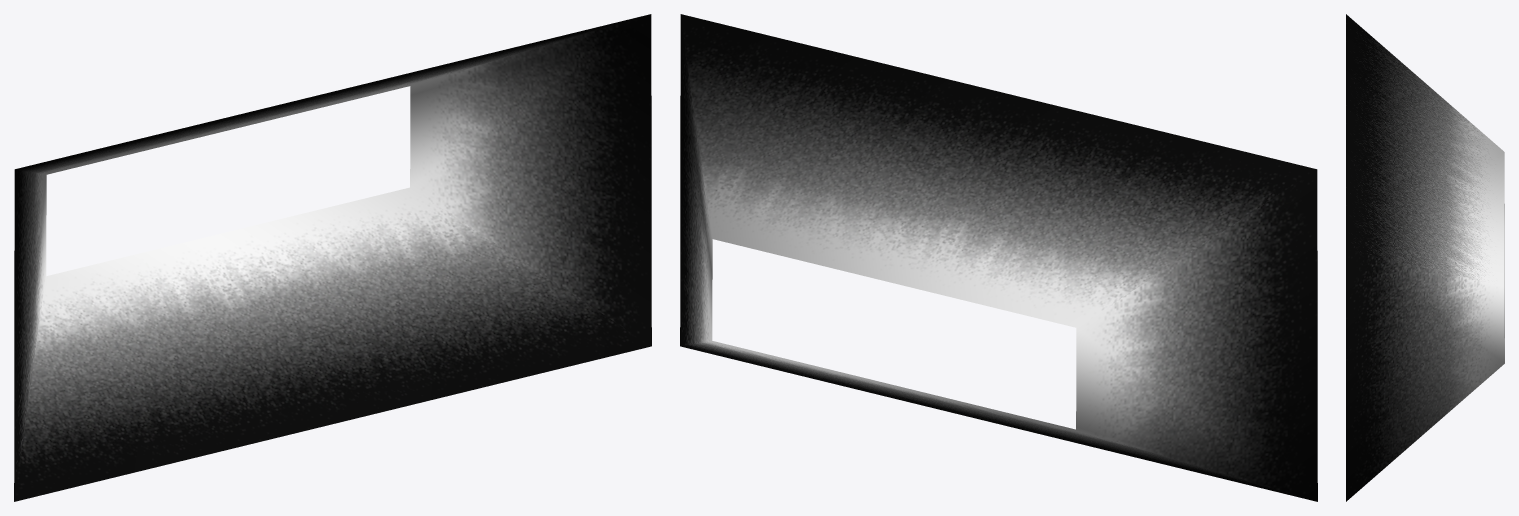
File: FloodLight_A_Shard.fbx
3 views of the same model, side by side, from view 1: azimuth 30°, elevation 25°; view 2: azimuth 150°, elevation 25°; view 3: azimuth 270°, elevation 25° (orthographic). The views are drawn at different scales.
Visible parts, largest first — view 1: polySurface633; view 2: polySurface633; view 3: polySurface633.
Boxes of the visible parts, <box> form: polySurface633: <box>14,14,651,501</box>; polySurface633: <box>680,14,1317,501</box>; polySurface633: <box>1346,14,1504,501</box>.
Size of the model in its own units: 1.98 by 0.9863 by 0.5632.
